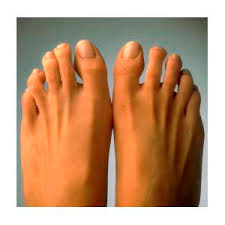Feet: (20, 38, 113, 206), (113, 39, 204, 206)
